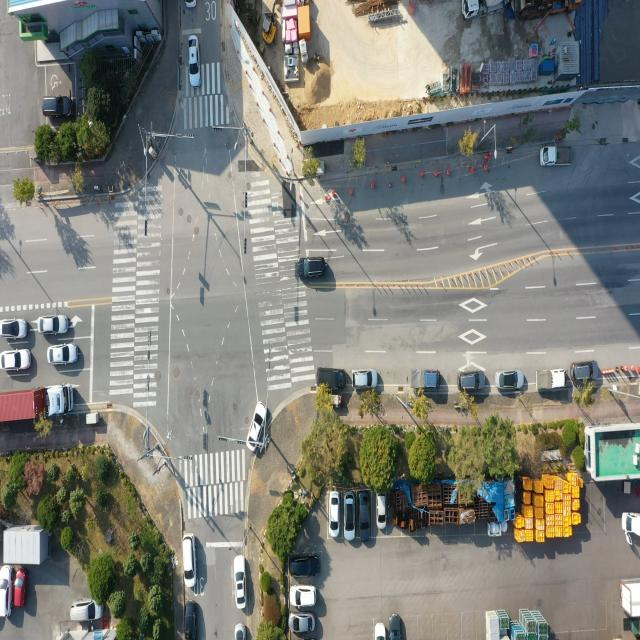car: (247, 401, 268, 452), (70, 600, 102, 626), (44, 94, 76, 118), (182, 534, 196, 588), (319, 365, 349, 390), (0, 349, 30, 372), (291, 557, 320, 580), (0, 566, 12, 620), (299, 258, 327, 281), (571, 359, 599, 382), (48, 344, 77, 366), (358, 493, 371, 541), (0, 321, 28, 343), (458, 372, 486, 394), (39, 314, 68, 335), (352, 369, 378, 392), (496, 371, 524, 392), (235, 556, 246, 608), (187, 36, 198, 88), (345, 494, 357, 540), (291, 587, 316, 608), (13, 568, 26, 607), (291, 616, 316, 636), (329, 493, 340, 538), (185, 599, 197, 639), (377, 494, 387, 528), (389, 613, 401, 640), (375, 624, 388, 640), (236, 623, 246, 640)
large_truck: (0, 385, 71, 426)
medium_truck: (620, 582, 640, 622), (461, 0, 502, 18)
small_truck: (538, 368, 570, 392), (542, 145, 575, 168), (409, 369, 440, 393), (621, 513, 640, 538), (183, 0, 195, 9)
